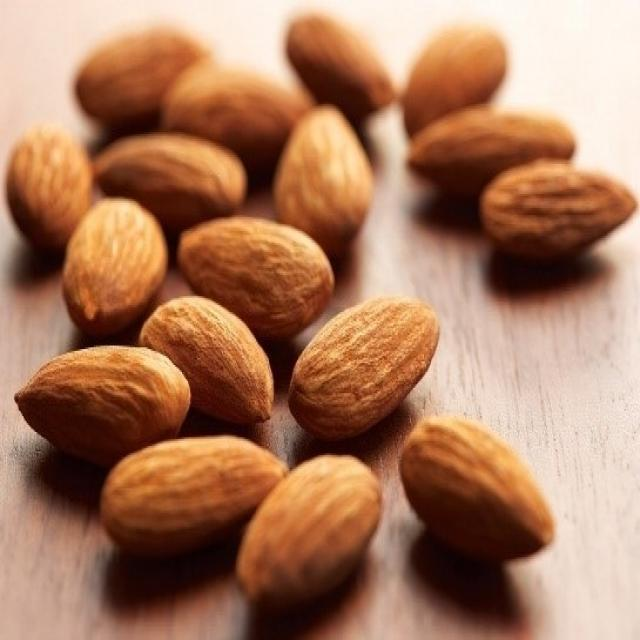almond: (233, 453, 387, 607), (402, 418, 558, 570), (98, 437, 292, 553), (293, 295, 442, 442), (8, 347, 192, 450), (178, 217, 335, 330), (142, 295, 273, 425), (487, 163, 635, 262), (272, 105, 372, 247), (403, 110, 567, 193), (62, 199, 167, 324), (95, 137, 250, 218), (7, 130, 93, 247)
